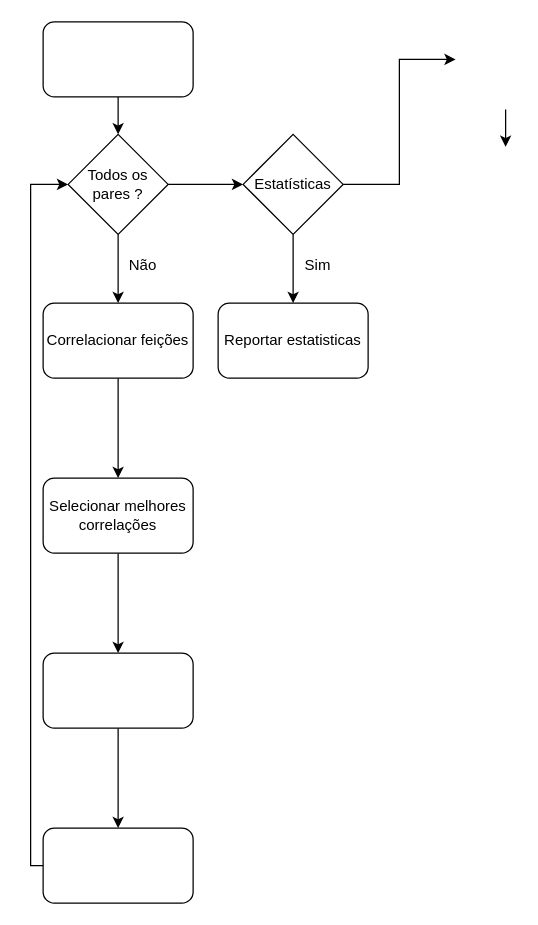
Some shapes in this 538 by 925 pixel diagram are drawn without their labels. The shapes that lost their labels are listed below. From the top down, each one's centre as x and y in pixels, then its label:
point 117,59: Carregar os pares
point 117,690: Filtragem utilizando verificação geométrica
point 117,865: Registrar as medidas nos pares
